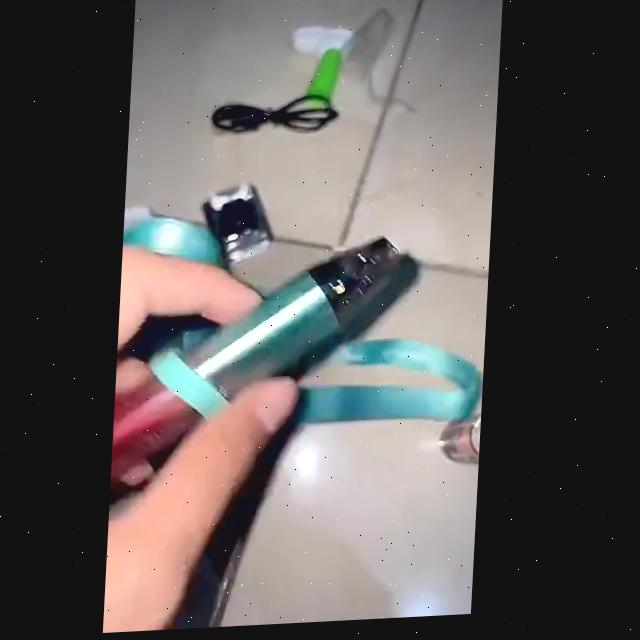vape: (116, 240, 406, 489)
